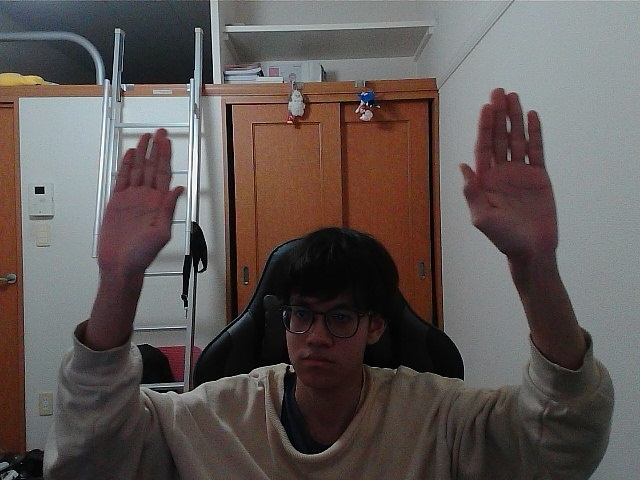open_palm: (467, 96, 539, 247)
